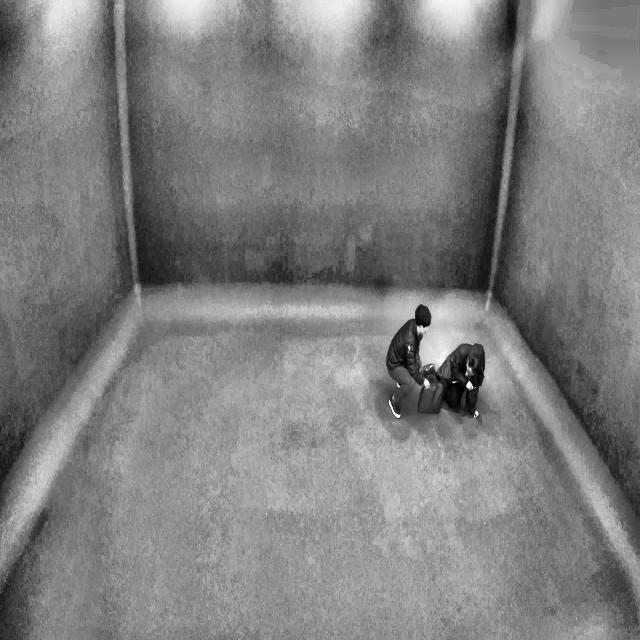assult: (382, 295, 493, 423)
